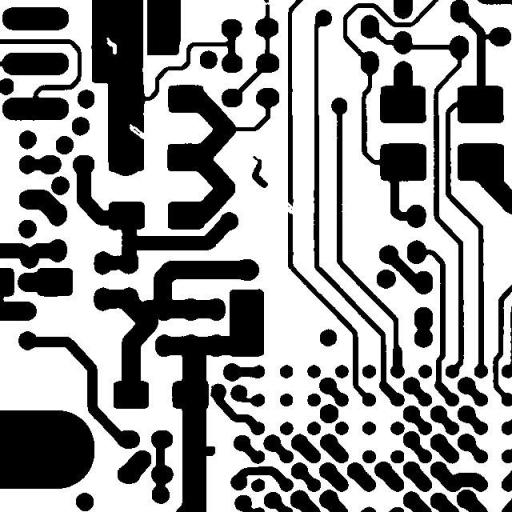copper: (244, 148, 275, 195)
mousebite: (122, 116, 152, 146)
open: (276, 194, 303, 222)
pin-hole: (98, 30, 124, 62)
spur: (196, 438, 222, 464)
